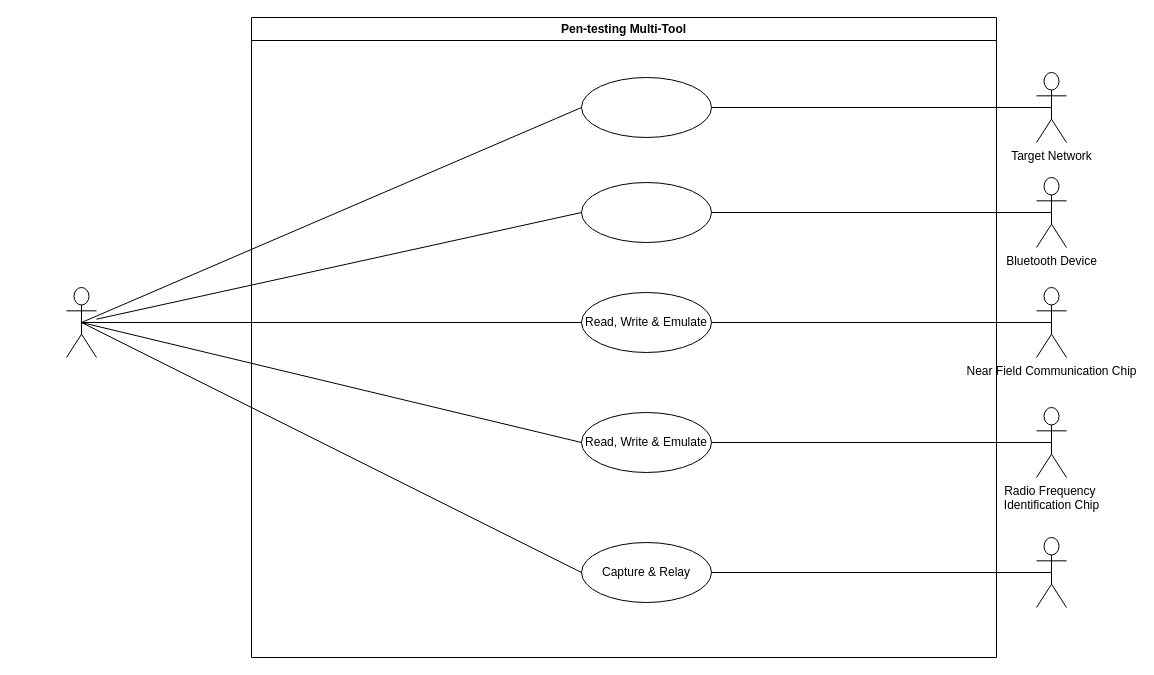
The diagram is 1154 pixels wide and 675 high, and some of its shapes have lost their labels. Each missing label, with the centre of its shape:
Infrared Emitting Device: the point at 1051,572
Pair & Capture Data: the point at 646,212
Pen-tester / Red-teamer: the point at 81,322
Scan & Attack Wi-Fi: the point at 646,107
